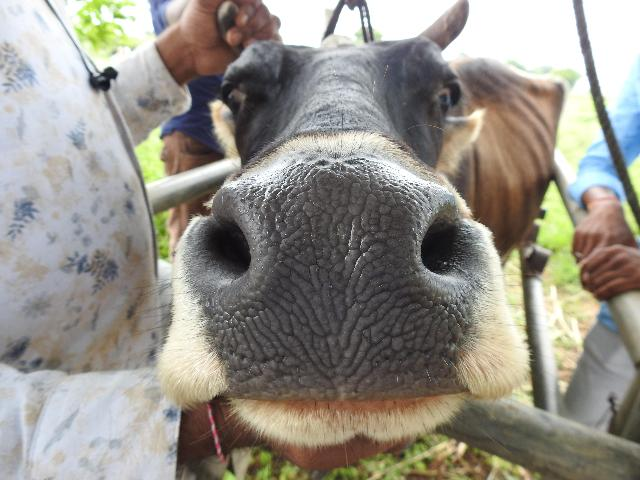Muzzle: (250, 178, 416, 392)
